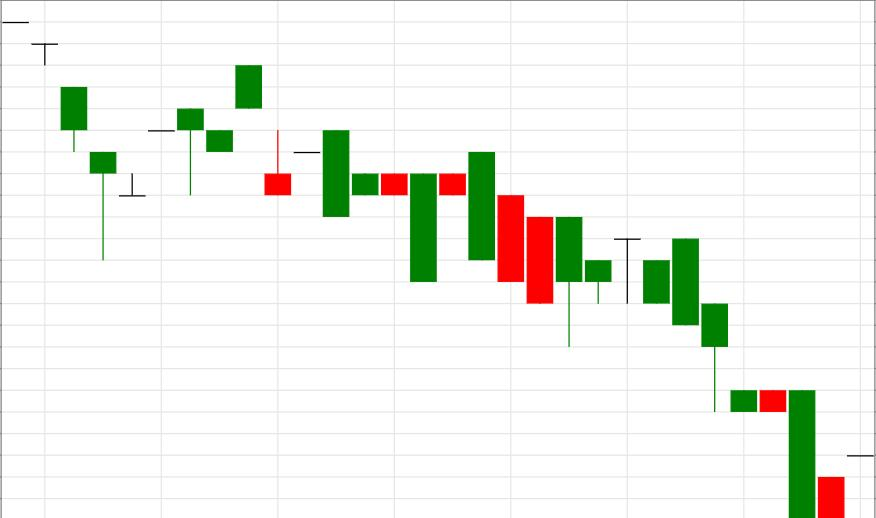hammer_rise: (557, 216, 728, 411)
